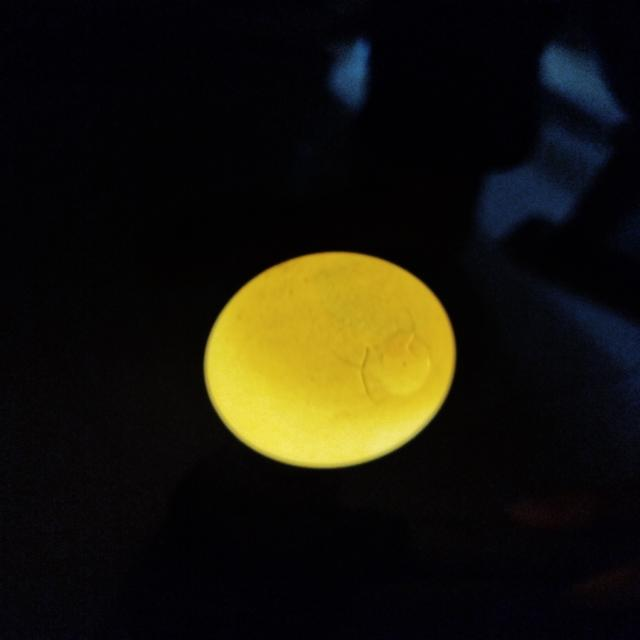Rachadura: (343, 311, 434, 408)
